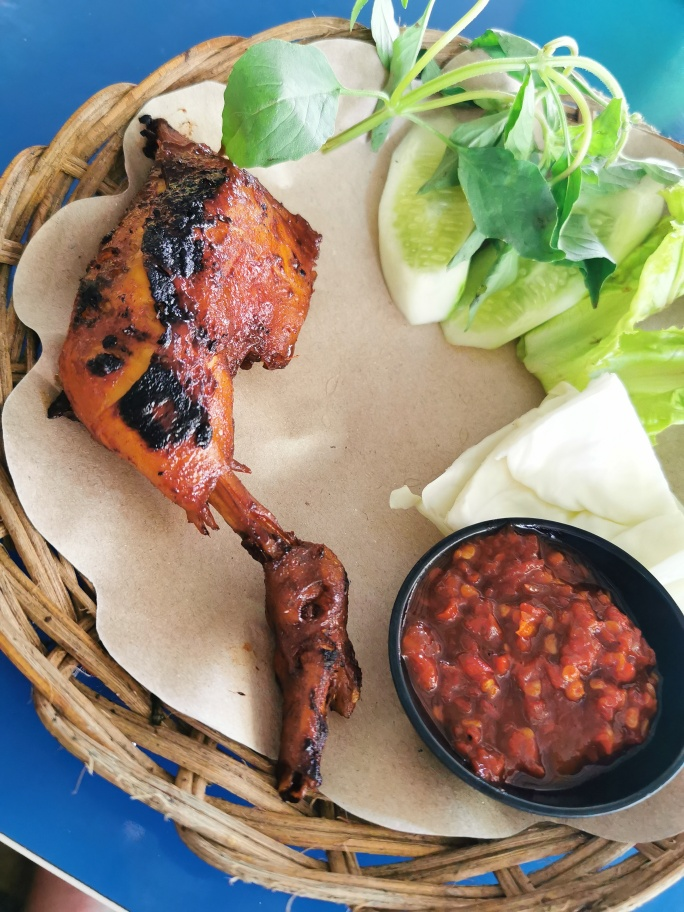ayam bakar: (59, 99, 391, 824)
